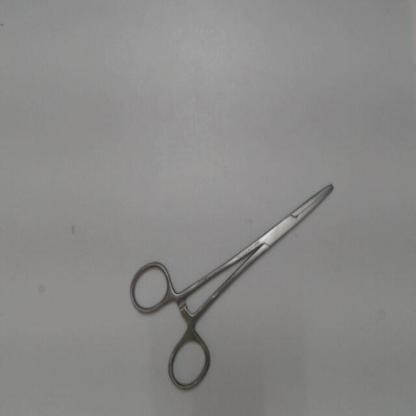Mayo Needle Holder: (122, 165, 357, 400)
